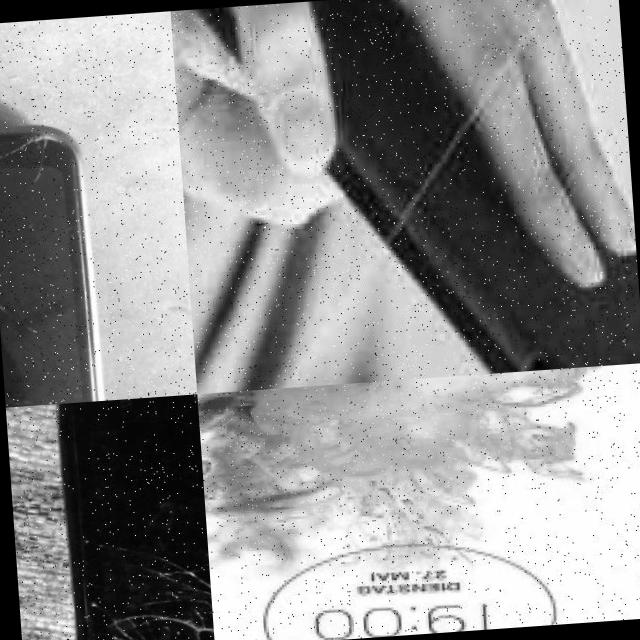screen crack: (71, 551, 214, 640), (0, 102, 99, 202)
